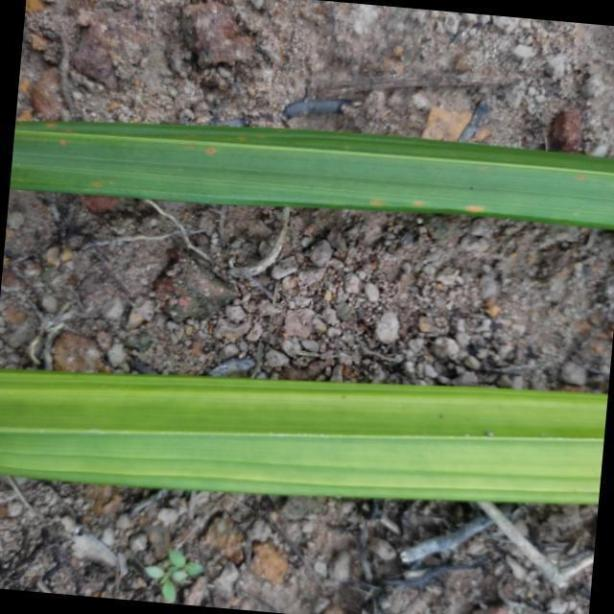nitrogen: (0, 368, 610, 510)
